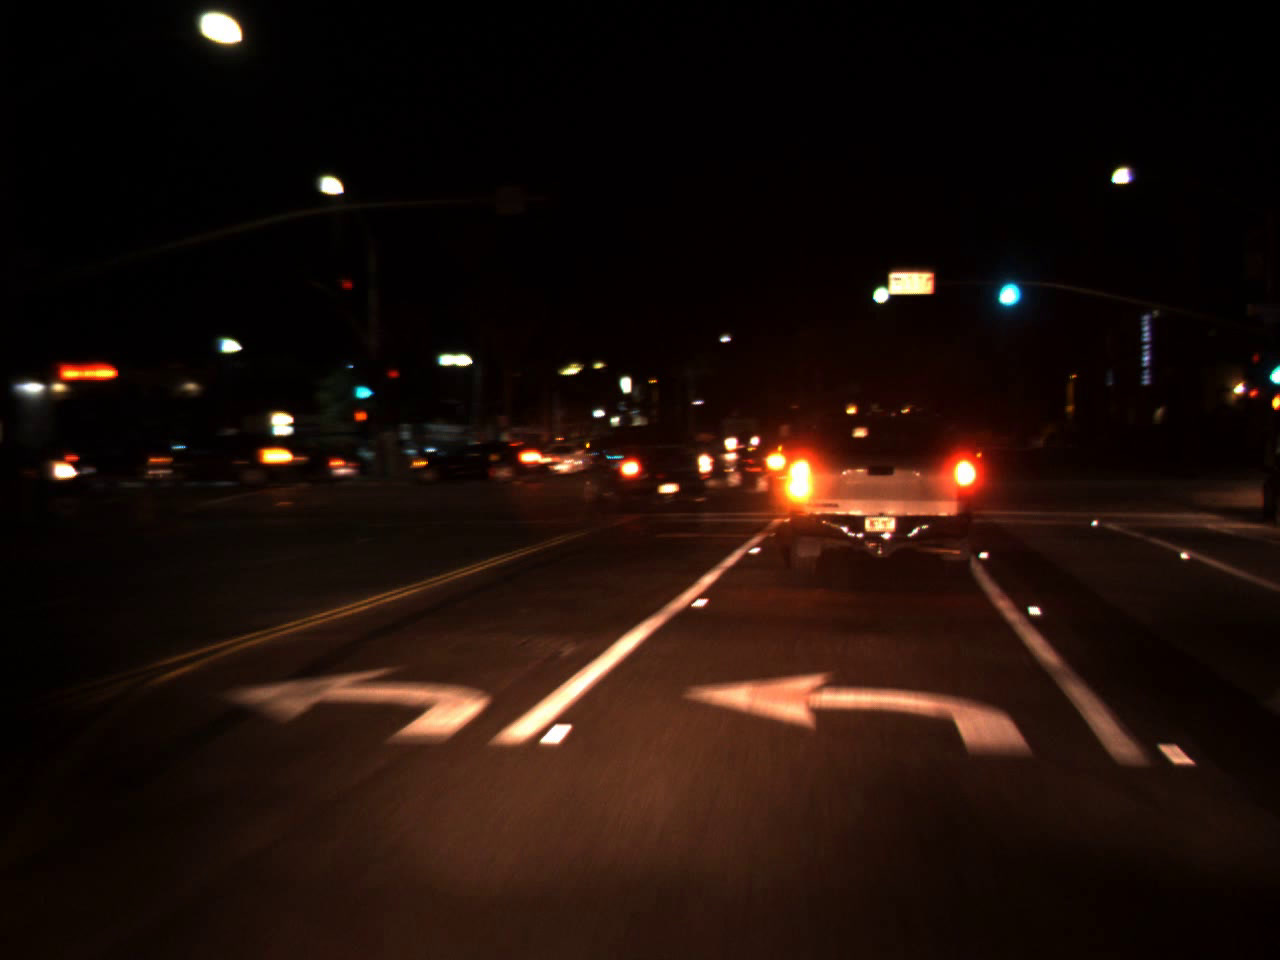go: (990, 255, 1024, 315), (866, 270, 893, 306), (350, 373, 375, 403)
